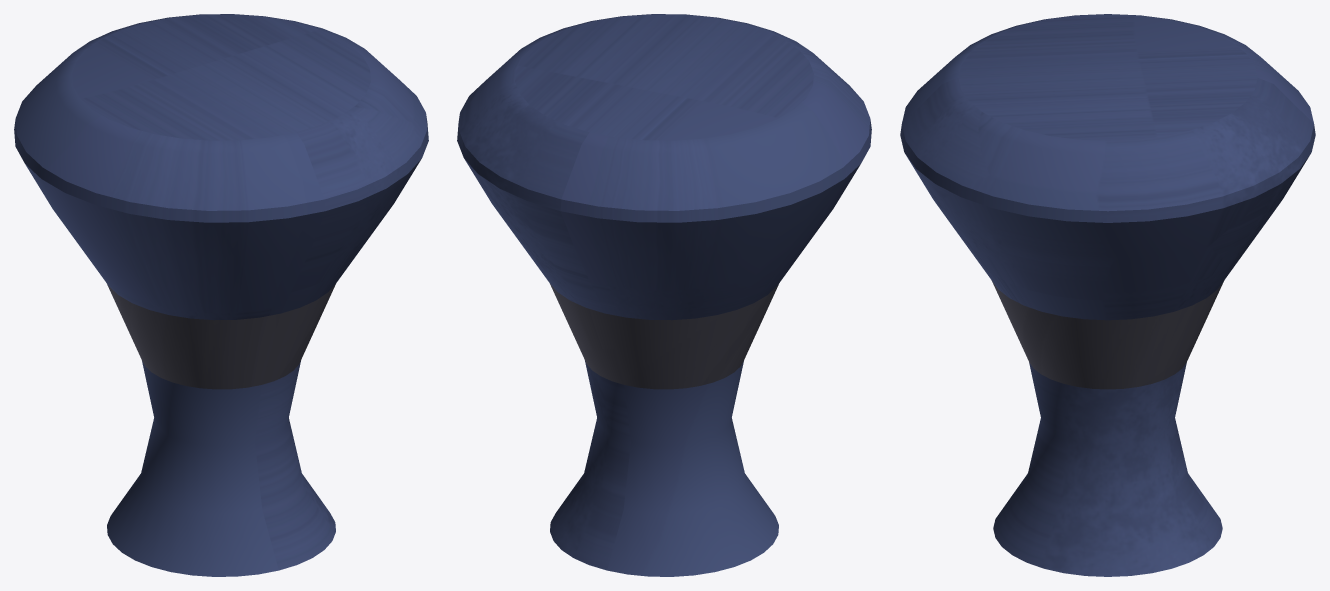
Rendered from StampD.fbx.
3 renders of one model, left to right at view 1: azimuth 30°, elevation 25°; view 2: azimuth 150°, elevation 25°; view 3: azimuth 270°, elevation 25°, orthographic.
Parts seen in each view (by area): view 1: Circle; view 2: Circle; view 3: Circle.
Part boxes in pixels (x1,y1,x2,y2): Circle: [14, 14, 428, 576]; Circle: [457, 14, 871, 576]; Circle: [900, 14, 1315, 576].
Size of the model in its own units: 197 by 235 by 197.
